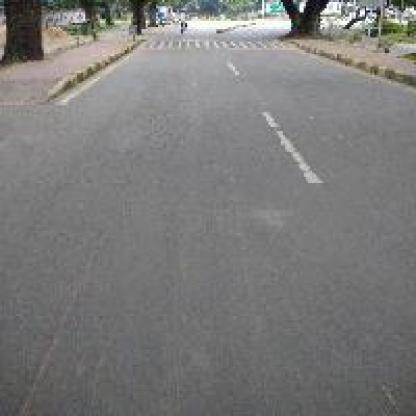Speed Bump: (148, 35, 295, 50)
